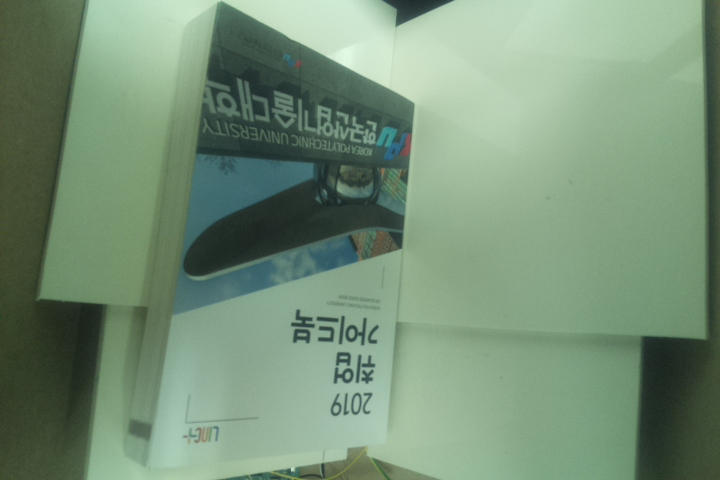book: (122, 1, 416, 472)
